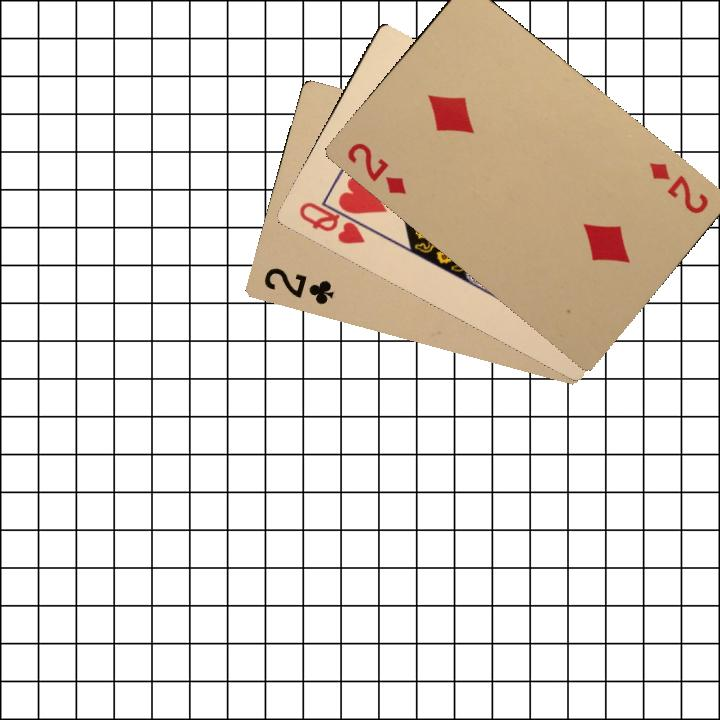2c: (260, 263, 337, 307)
2d: (644, 157, 711, 217), (343, 138, 409, 197)
Qh: (295, 196, 374, 247)
